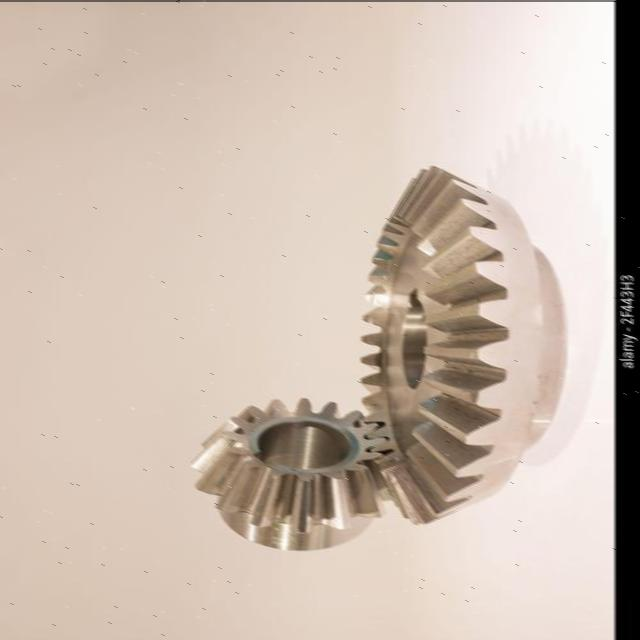Gear: (354, 163, 571, 538), (185, 396, 390, 560)
